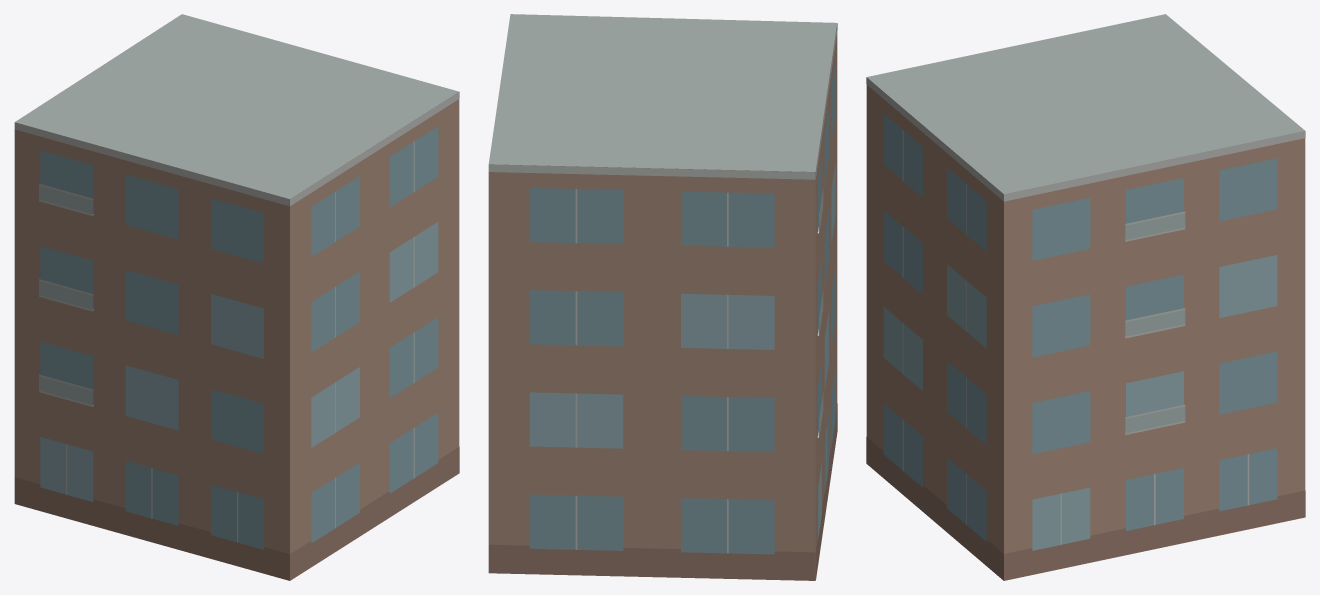
File: survey-upis-32702139.glb
3 views of the same model, side by side, from view 1: azimuth 30°, elevation 25°; view 2: azimuth 150°, elevation 25°; view 3: azimuth 270°, elevation 25° (orthographic). The views are drawn at different scales.
Visible parts, largest first — view 1: survey-upis-32702139.tmp; view 2: survey-upis-32702139.tmp; view 3: survey-upis-32702139.tmp.
Part boxes in pixels (left/top/right/bottom): survey-upis-32702139.tmp: left=14, top=14, right=459, bottom=580; survey-upis-32702139.tmp: left=488, top=14, right=837, bottom=580; survey-upis-32702139.tmp: left=866, top=14, right=1305, bottom=580.
Bounding box in the file's own units: 12.96 × 12.95 × 13.34.
